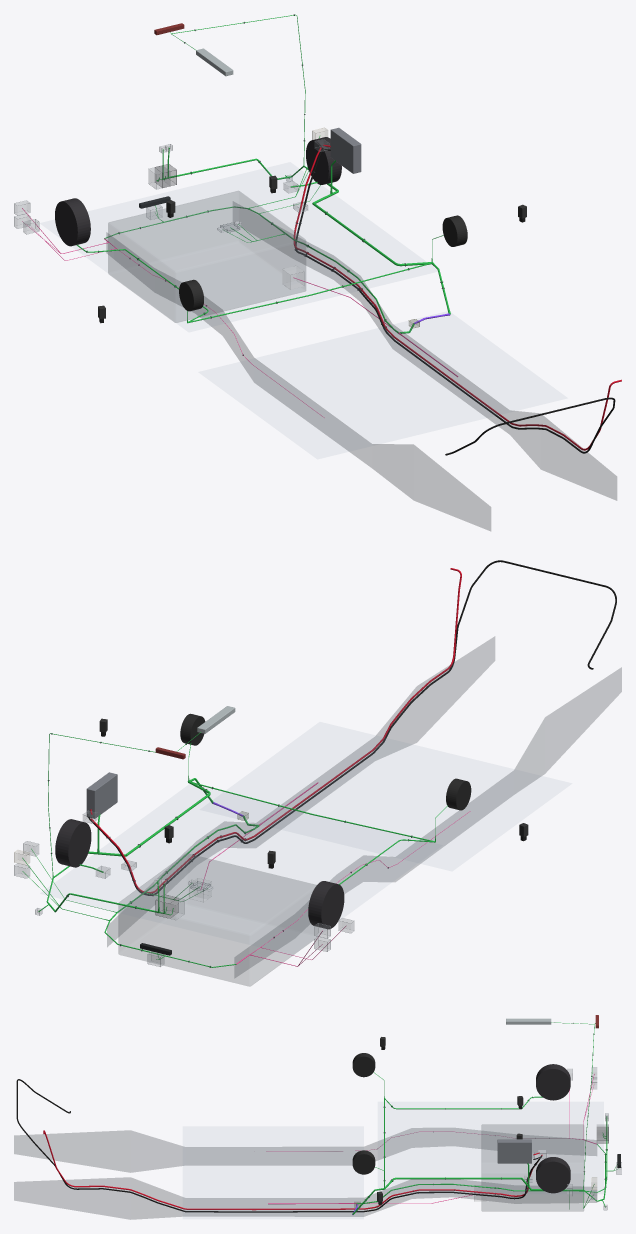
The model's file is k5-harness-v4-rear.glb.
3 views of the same model, one above another, from view 1: azimuth 30°, elevation 25°; view 2: azimuth 150°, elevation 25°; view 3: azimuth 270°, elevation 25° (orthographic). The views are drawn at different scales.
Visible parts, largest first — view 1: CTX-FUEL-TANK, CTX-frame-rail-web-driver, CTX-frame-rail-web-passenger, DC-AMP_GND, SUB-2, DC-32, SUB, AMP; view 2: CTX-FUEL-TANK, CTX-frame-rail-web-driver, CTX-frame-rail-web-passenger, DC-AMP_GND, SUB, SUB-2, DC-32, AMP, SPK-RR, SPK-RL; view 3: CTX-frame-rail-web-passenger, CTX-frame-rail-web-driver, CTX-FUEL-TANK, DC-AMP_GND, DC-32, SUB-2, SUB, AMP, SPK-RR, SPK-RL, R-D1, CARGO-LAMP.
Part boxes in pixels (x1=…): CTX-FUEL-TANK: x1=108, y1=191, x2=305, y2=322; CTX-frame-rail-web-driver: x1=233, y1=202, x2=616, y2=500; CTX-frame-rail-web-passenger: x1=106, y1=233, x2=490, y2=530; DC-AMP_GND: x1=295, y1=148, x2=615, y2=455; SUB-2: x1=55, y1=198, x2=90, y2=246; DC-32: x1=294, y1=147, x2=621, y2=450; SUB: x1=306, y1=137, x2=341, y2=184; AMP: x1=330, y1=127, x2=361, y2=173; CTX-FUEL-TANK: x1=118, y1=853, x2=316, y2=986; CTX-frame-rail-web-driver: x1=107, y1=636, x2=494, y2=946; CTX-frame-rail-web-passenger: x1=234, y1=667, x2=621, y2=977; DC-AMP_GND: x1=89, y1=560, x2=616, y2=895; SUB: x1=55, y1=819, x2=91, y2=867; SUB-2: x1=308, y1=881, x2=344, y2=929; DC-32: x1=90, y1=568, x2=461, y2=893; AMP: x1=86, y1=772, x2=117, y2=818; SPK-RR: x1=446, y1=778, x2=471, y2=810; SPK-RL: x1=180, y1=713, x2=205, y2=745; CTX-frame-rail-web-passenger: x1=14, y1=1128, x2=596, y2=1172; CTX-frame-rail-web-driver: x1=14, y1=1177, x2=596, y2=1219; CTX-FUEL-TANK: x1=481, y1=1124, x2=583, y2=1211; DC-AMP_GND: x1=16, y1=1079, x2=542, y2=1212; DC-32: x1=43, y1=1130, x2=542, y2=1210; SUB-2: x1=536, y1=1064, x2=570, y2=1100; SUB: x1=536, y1=1157, x2=570, y2=1193; AMP: x1=497, y1=1139, x2=531, y2=1163; SPK-RR: x1=352, y1=1053, x2=375, y2=1077; SPK-RL: x1=352, y1=1150, x2=375, y2=1174; R-D1: x1=384, y1=1177, x2=521, y2=1189; CARGO-LAMP: x1=506, y1=1018, x2=551, y2=1024.
Size of the model in its own units: 2.71 by 1.42 by 4.43.
